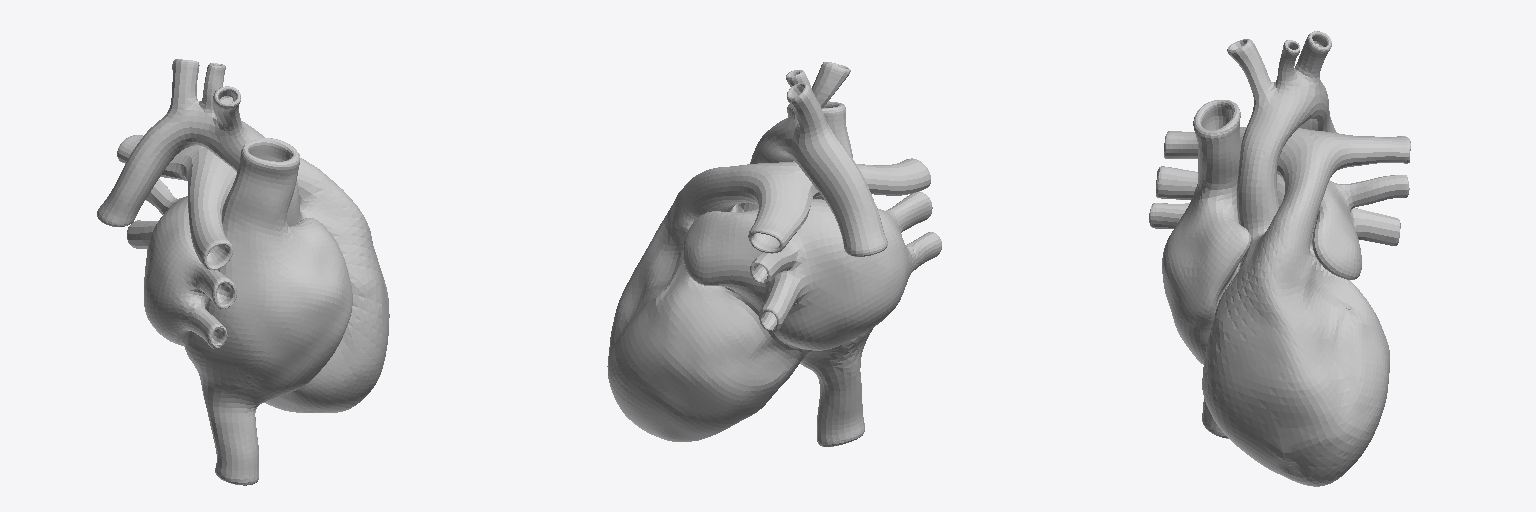
3 views of the same model, side by side, from view 1: azimuth 30°, elevation 25°; view 2: azimuth 150°, elevation 25°; view 3: azimuth 270°, elevation 25° (orthographic).
Parts seen in each view (by area): view 1: HEART_PRO; view 2: HEART_PRO; view 3: HEART_PRO.
Boxes of the visible parts, box(x1,y1,x2,y2) form: HEART_PRO: box(97, 59, 389, 485); HEART_PRO: box(607, 62, 941, 446); HEART_PRO: box(1149, 31, 1410, 486).
Size of the model in its own units: 594 by 821 by 494.